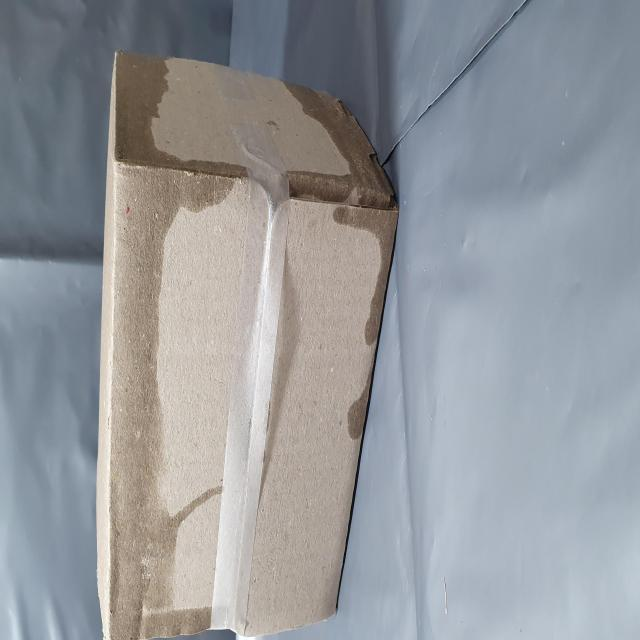wet: (2, 181, 335, 419), (112, 508, 314, 640)
